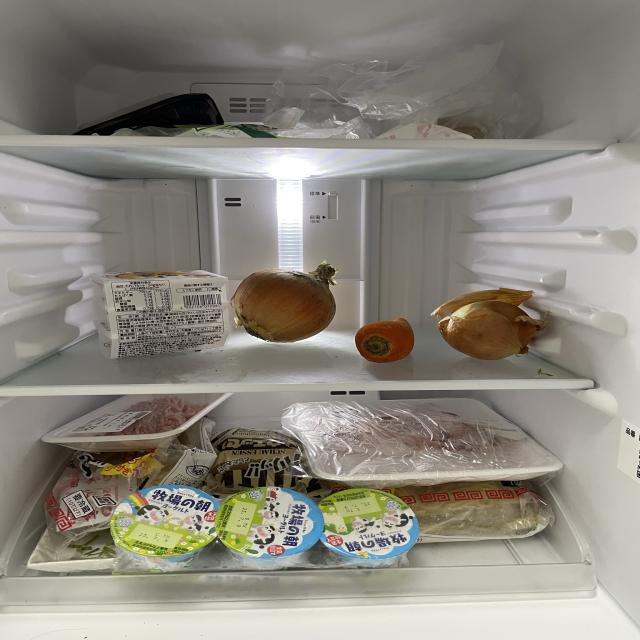carrot: (360, 312, 421, 371)
onion: (235, 263, 353, 357), (439, 289, 561, 363)
